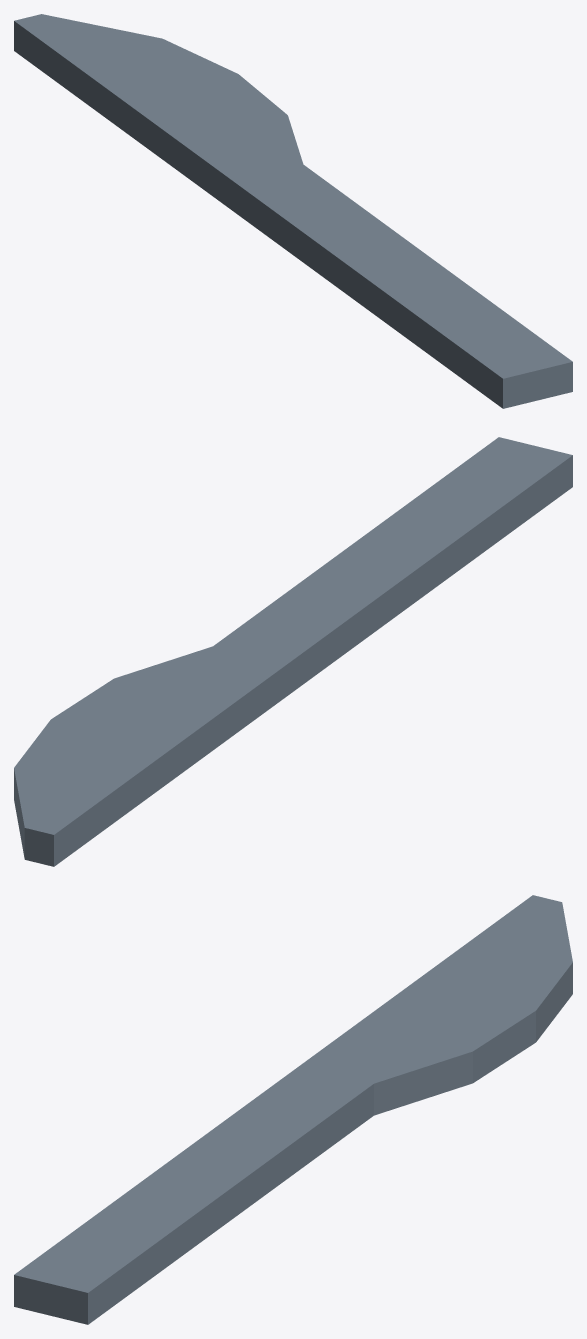
The model's file is CutleryKnife.fbx.
3 renders of one model, top to bottom at view 1: azimuth 30°, elevation 25°; view 2: azimuth 150°, elevation 25°; view 3: azimuth 330°, elevation 25°, orthographic. The views are drawn at different scales.
Parts seen in each view (by area): view 1: CutleryKnife; view 2: CutleryKnife; view 3: CutleryKnife.
Part boxes in pixels (x1=…): CutleryKnife: x1=14, y1=14, x2=572, y2=408; CutleryKnife: x1=14, y1=437, x2=572, y2=866; CutleryKnife: x1=14, y1=895, x2=572, y2=1324.
Size of the model in its own units: 9.81 by 2.48 by 73.02.
